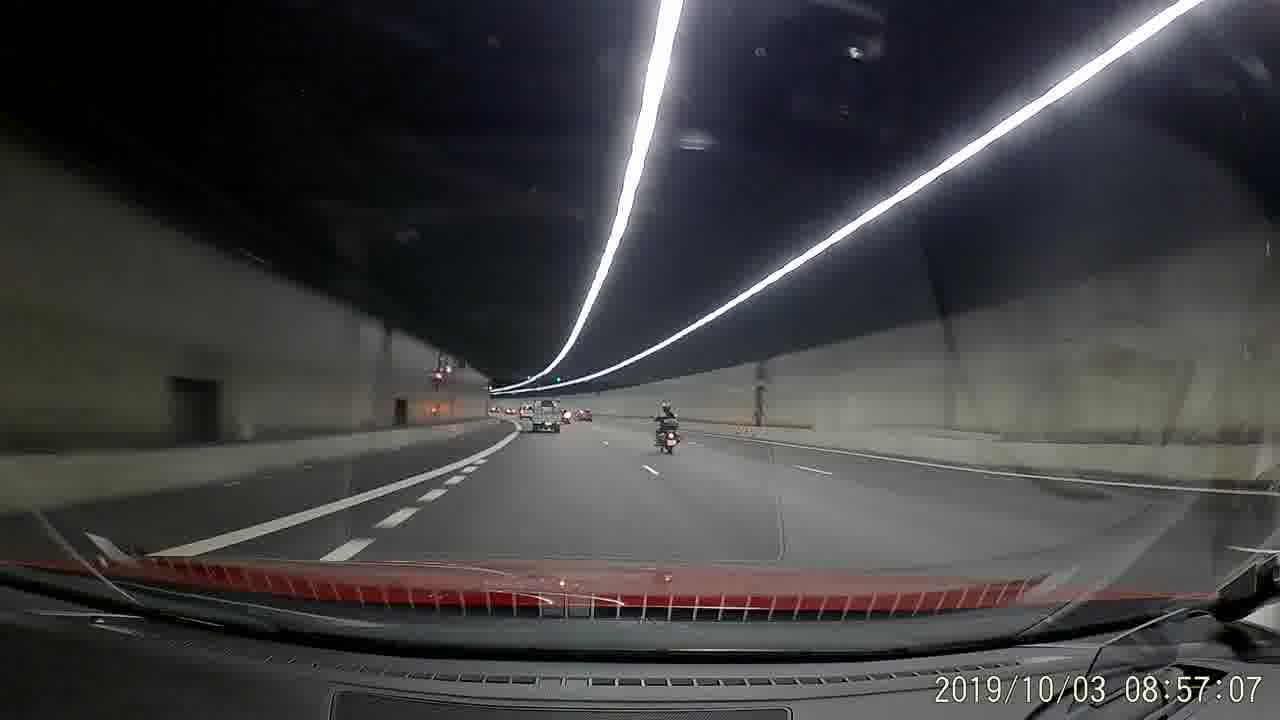car: (576, 406, 594, 423)
